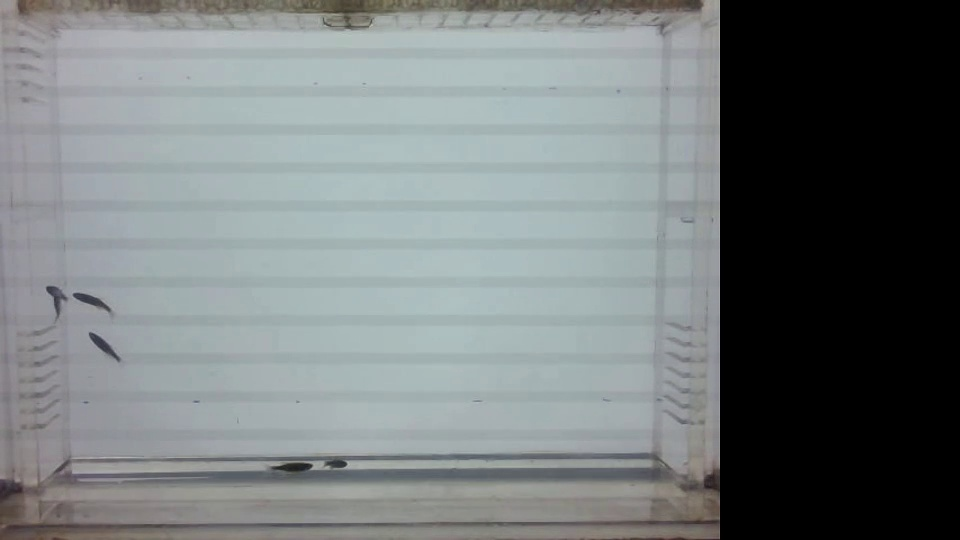fish: (84, 328, 128, 368), (69, 289, 116, 318), (266, 460, 314, 476), (44, 278, 72, 302), (316, 454, 352, 472), (46, 294, 64, 322)
